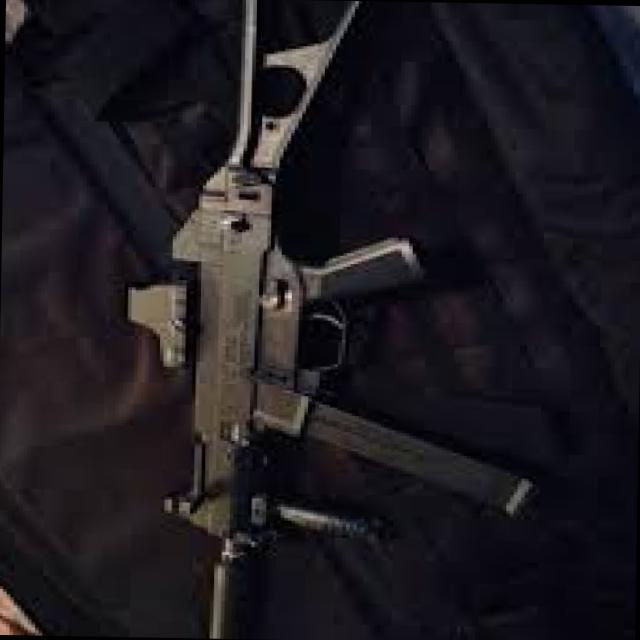Gun: (114, 0, 511, 640)
